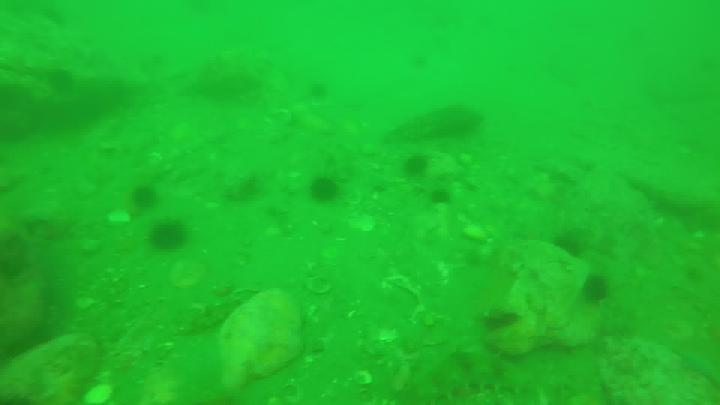echinus: (151, 221, 190, 252), (311, 176, 340, 202), (583, 276, 609, 305), (405, 156, 434, 175), (562, 235, 585, 258), (428, 189, 452, 206), (134, 188, 157, 205)
holothurian: (379, 346, 531, 405)
scallop: (466, 220, 491, 242), (309, 277, 334, 296), (347, 193, 363, 209)
